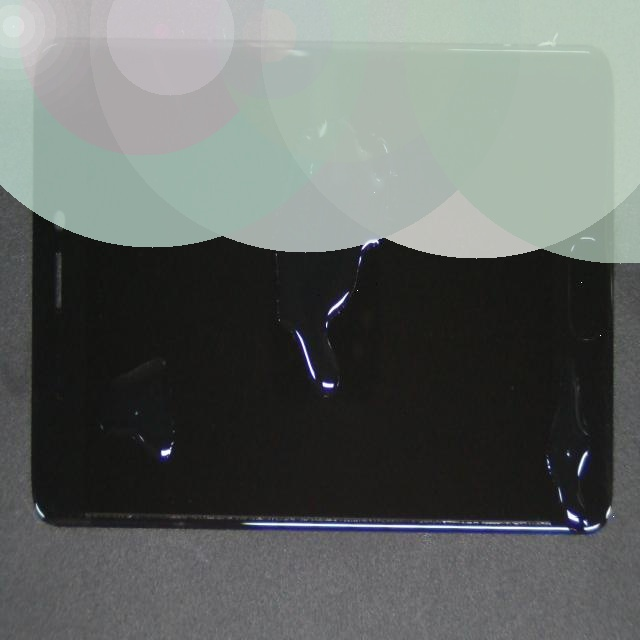oil: (326, 175, 640, 394), (18, 198, 172, 640), (189, 14, 476, 184)
